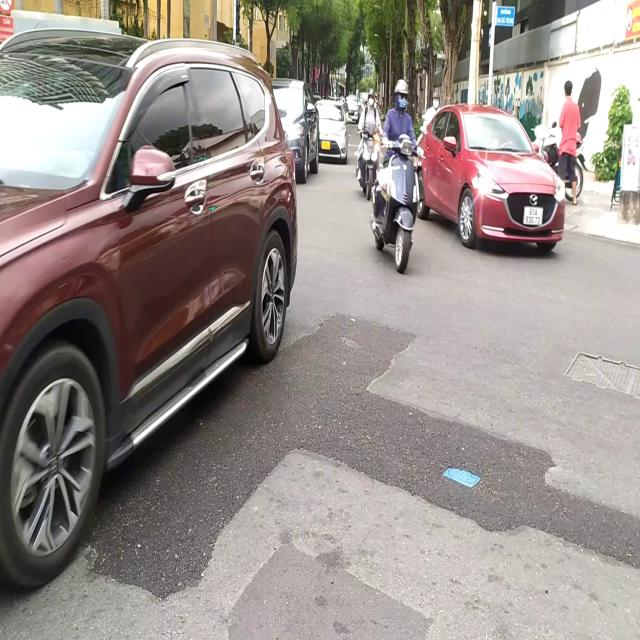bien_trang: (520, 202, 544, 230)
